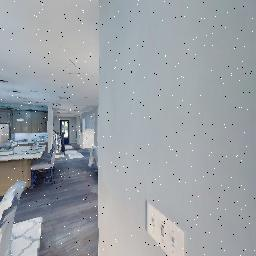chair: (26, 135, 67, 191)
